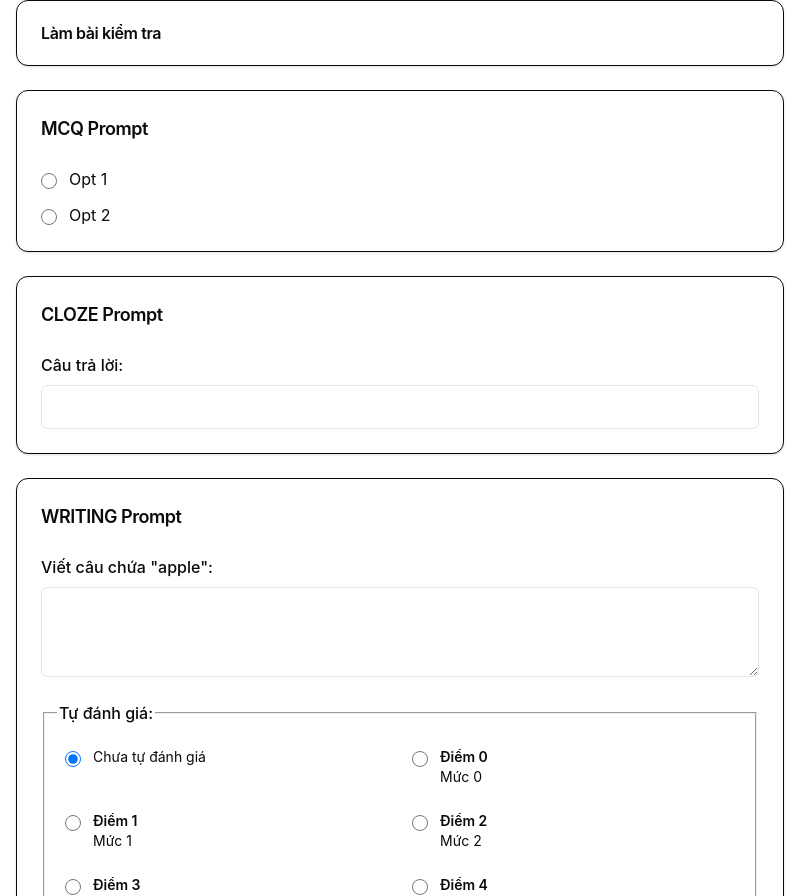
Scenario: T050 QuizRunner › never shows saved before durable receipt and sends newest edit after an in-flight PUT
The width and height of the screenshot is (801, 896).
Check: the text "CLOZE Prompt" is shown, box [41, 304, 163, 325]
Type "old" into the field labelled "Câu trả lời:". click: (400, 407)
box: [41, 385, 759, 429]
Wait 500 ms
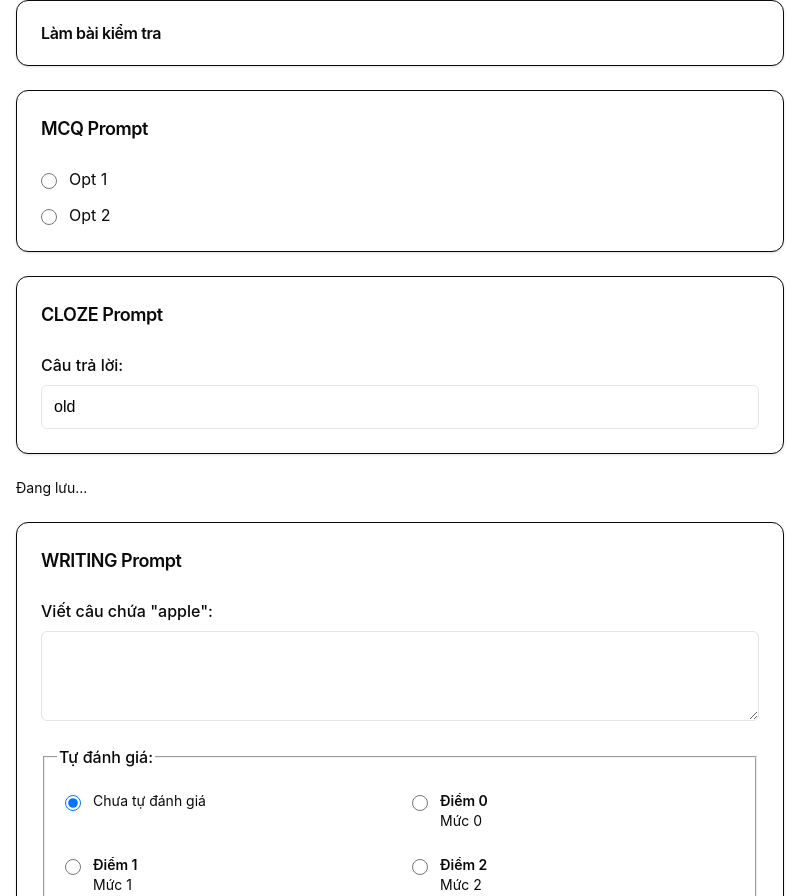
Check: the text "Đã lưu" is not shown
Replace the text in the field labelled "Câu trả lời:" with "new". click: (400, 407)
box: [41, 385, 759, 429]
Wait 500 ms
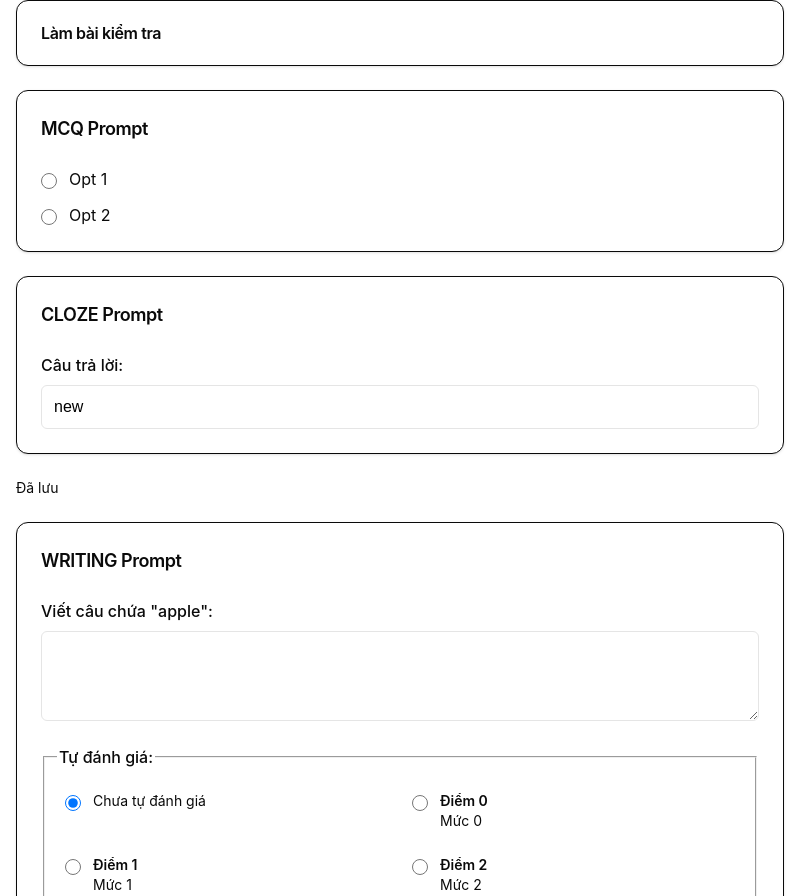
Check: the text "Đã lưu" is shown, box [16, 479, 58, 496]
